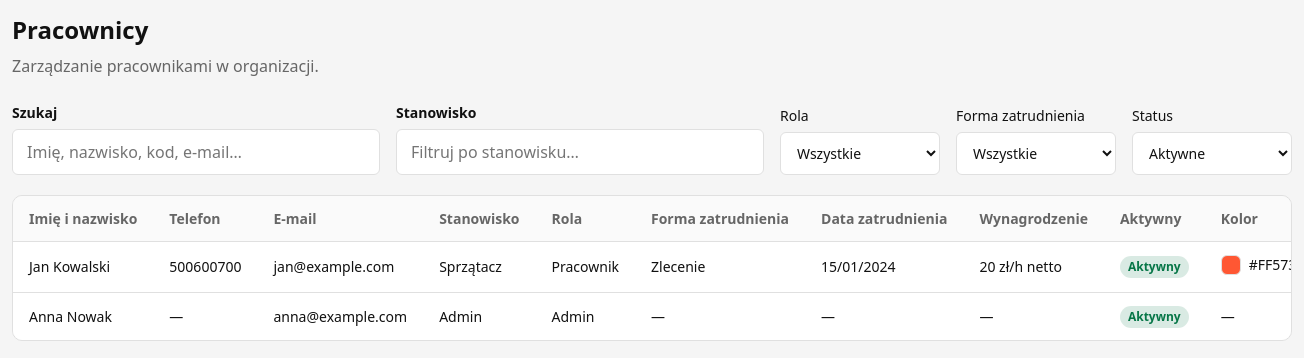
it: EmployeesPage › filters by role
Expected: the text "Jan Kowalski" is shown, [13, 242, 153, 292]
Select "Admin" in the dropdown named "Filtr roli" at (860,154), box [780, 132, 940, 175]
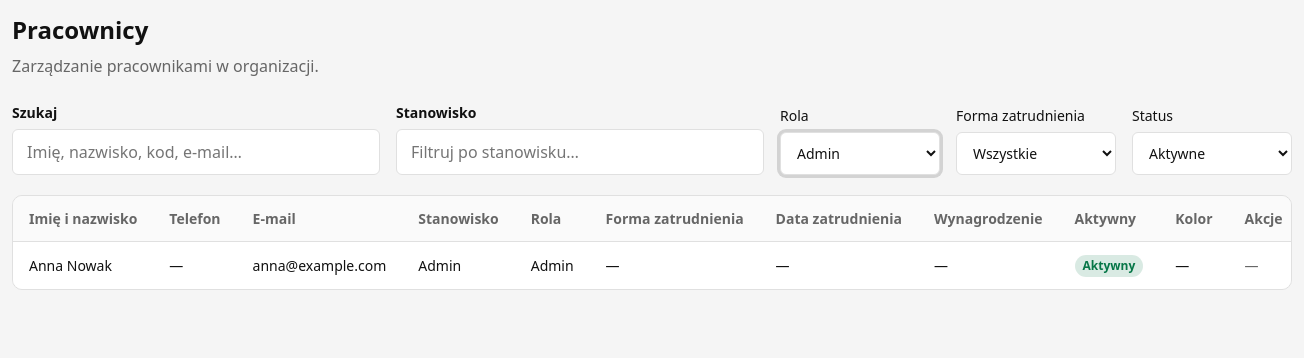
Expected: the text "Anna Nowak" is shown, [13, 242, 153, 289]
Now the text "Jan Kowalski" is gone
